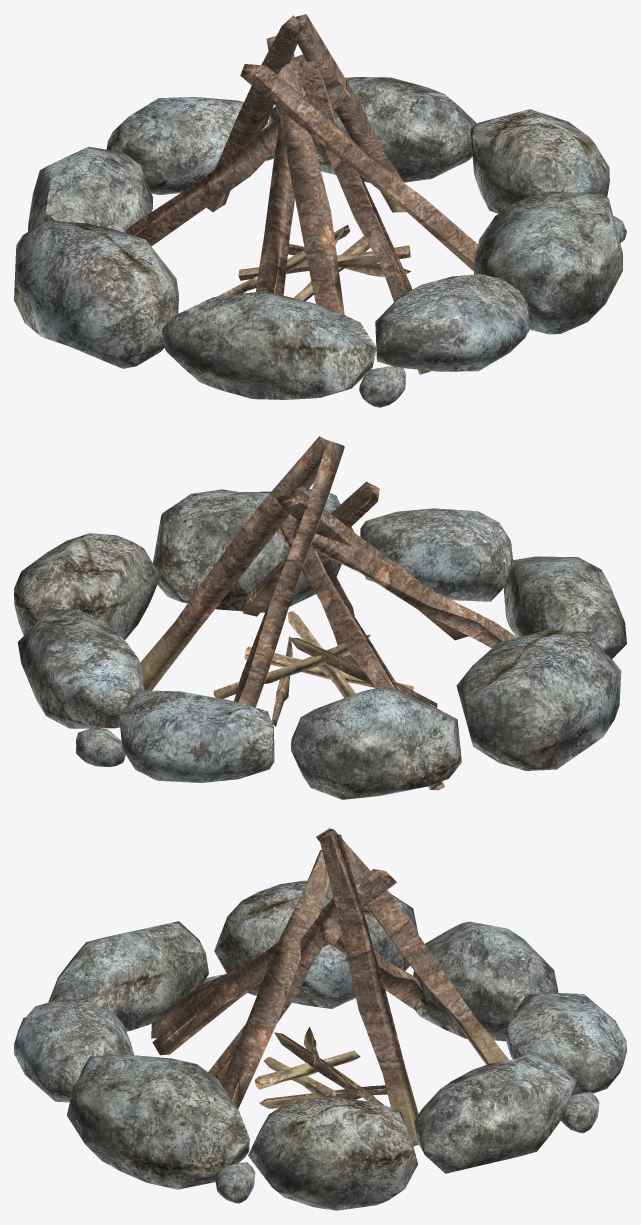
Rendered from realbonfire.glb.
The picture shows the model from 3 angles, top to bottom: view 1: azimuth 30°, elevation 25°; view 2: azimuth 150°, elevation 25°; view 3: azimuth 270°, elevation 25°; orthographic projection. The views are drawn at different scales.
Visible parts, largest first — view 1: Koster_low_Koster1_0; view 2: Koster_low_Koster1_0; view 3: Koster_low_Koster1_0.
Part boxes in pixels (left/top/right/bottom): Koster_low_Koster1_0: left=14, top=14, right=626, bottom=407; Koster_low_Koster1_0: left=14, top=436, right=626, bottom=799; Koster_low_Koster1_0: left=14, top=828, right=626, bottom=1210.
Size of the model in its own units: 0.9444 by 0.5 by 0.9243.
1 material, 1 textured.
